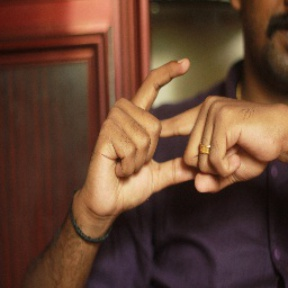E: (115, 56, 228, 191)
